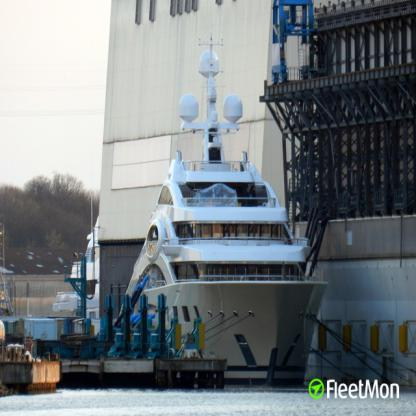Yacht: (117, 38, 330, 387)
